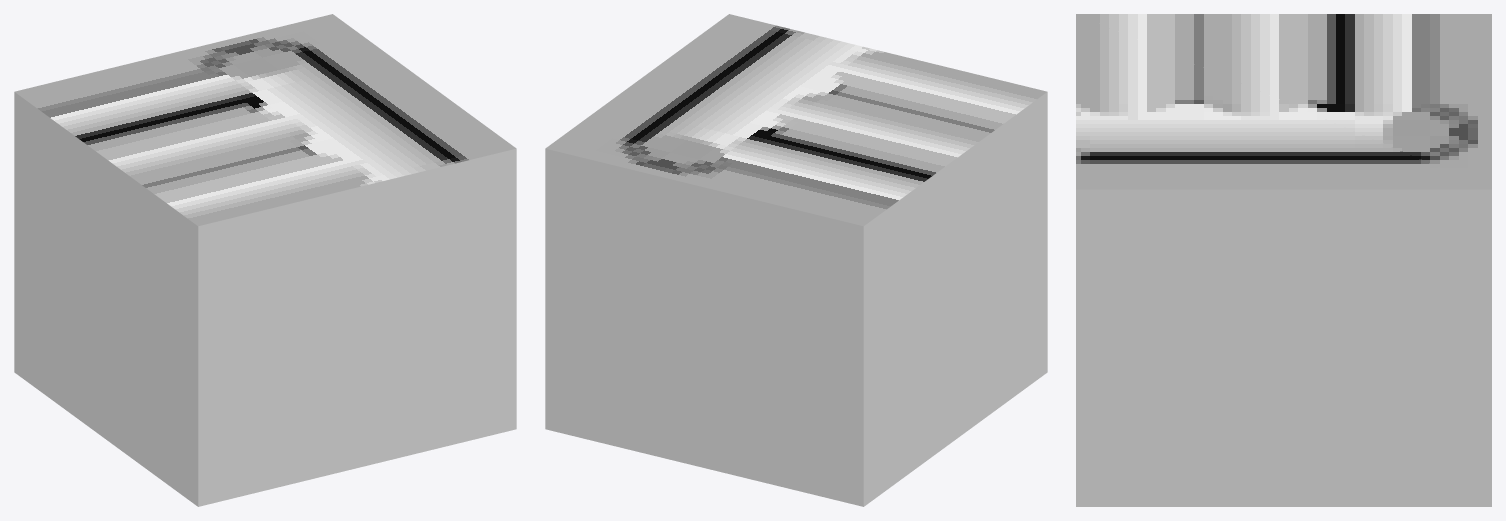
The model's file is Building_Fence.glb.
3 renders of one model, left to right at view 1: azimuth 30°, elevation 25°; view 2: azimuth 150°, elevation 25°; view 3: azimuth 270°, elevation 25°, orthographic. The views are drawn at different scales.
Visible parts, largest first — view 1: Fence; view 2: Fence; view 3: Fence.
Boxes of the visible parts, x1,y1,x2,y2 form: Fence: (14, 14, 516, 506); Fence: (545, 14, 1047, 506); Fence: (1076, 14, 1491, 506).
Size of the model in its own units: 0.95 by 0.8 by 0.95.
Materials: 1 (1 with a texture image).
